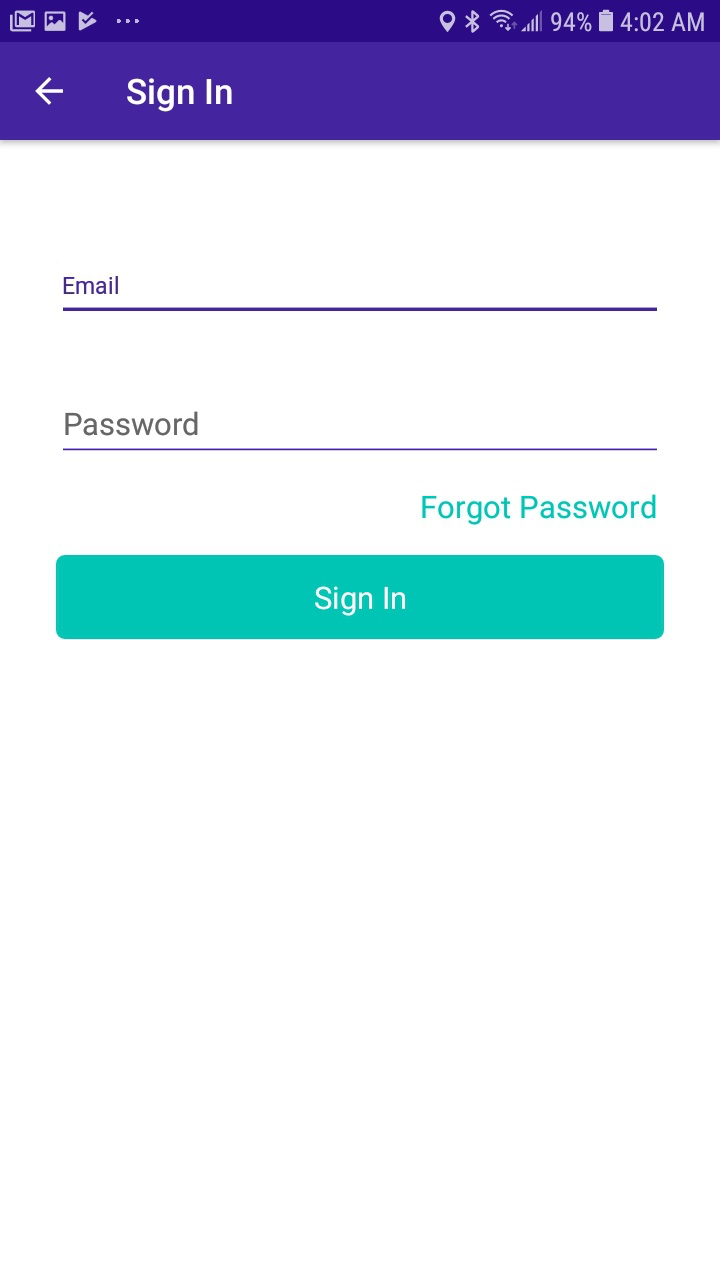EditText: (63, 411, 658, 452), (63, 276, 658, 313)
Icon: (35, 77, 65, 107)
Text: (422, 494, 657, 526), (127, 78, 233, 114), (65, 411, 199, 437), (64, 277, 120, 296)
TextButton: (56, 555, 665, 640)
UpperTaskBar: (1, 1, 720, 43)
